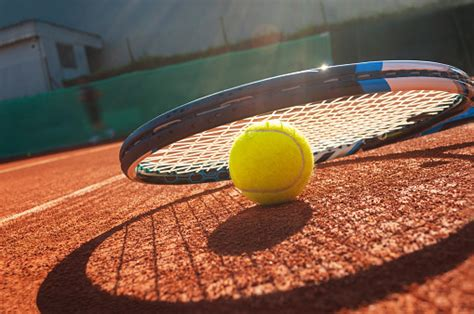tennis_ball: (228, 119, 315, 207)
